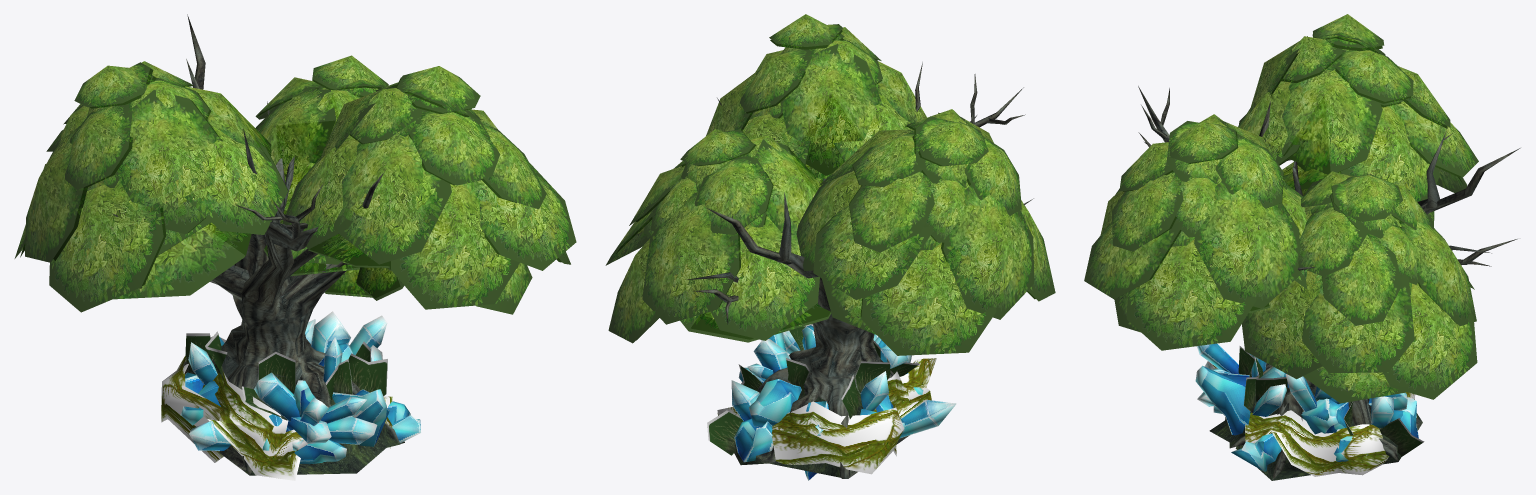
File: a_SWFgotree01.glb
3 views of the same model, side by side, from view 1: azimuth 30°, elevation 25°; view 2: azimuth 150°, elevation 25°; view 3: azimuth 270°, elevation 25° (orthographic). The views are drawn at different scales.
Visible parts, largest first — view 1: a_SWFgotree01; view 2: a_SWFgotree01; view 3: a_SWFgotree01.
Boxes of the visible parts, bbox=[...] form: a_SWFgotree01: bbox=[14, 14, 576, 480]; a_SWFgotree01: bbox=[605, 14, 1055, 480]; a_SWFgotree01: bbox=[1084, 14, 1520, 480].
Bounding box in the file's own units: 7.73 × 6.91 × 7.6.
Materials: 12 (12 with a texture image).
